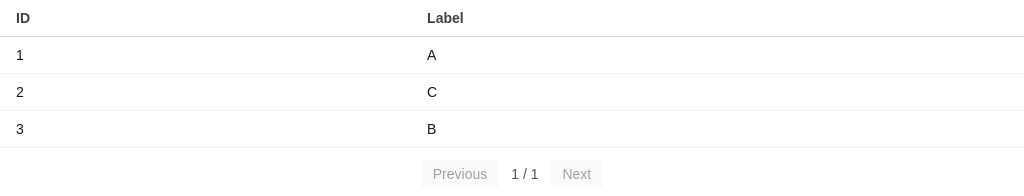
DataTable › sorting › sorts ascending on first click
What coordinates should you click on to do the following:
click the column heading "Label"
I would click on:
 (445, 18)
Its box is [411,0,1023,36].
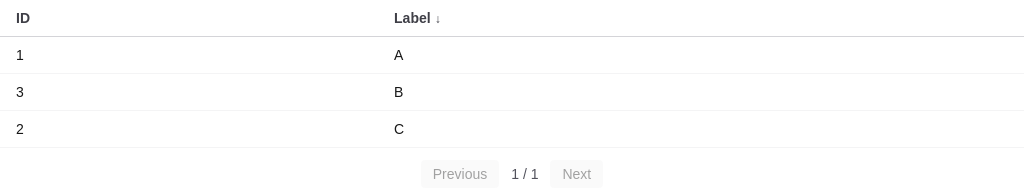
Expected: the cell "A" is shown, [378,36,1023,74]
Expected: the column heading "Label↓" is shown, [378,0,1023,36]
